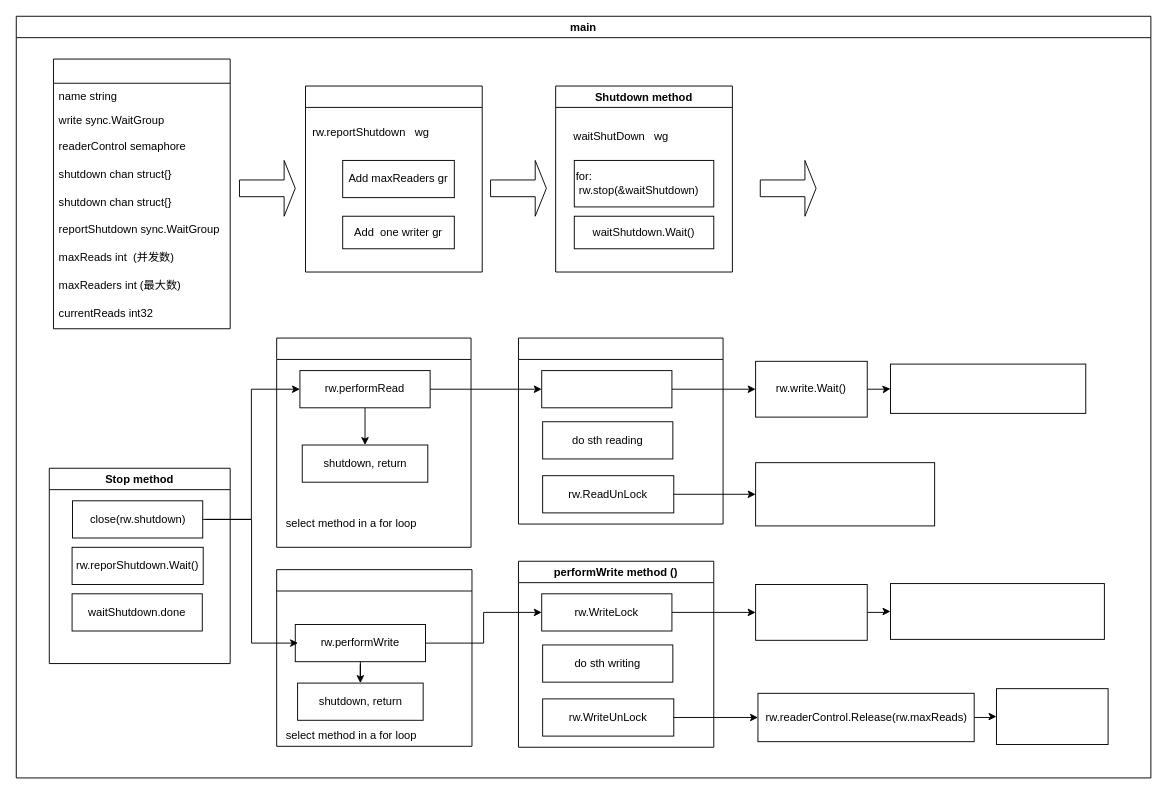
Some shapes in this 1167 by 794 pixel diagram are drawn without their labels. The box of each missing label's shape, as (x1, y1, x2, y2) in pixels:
performRead method (reader int): (518, 337, 723, 524)
reader method: (276, 337, 471, 547)
ReaderWriter struct: (53, 58, 230, 329)
rw.readerControl.Acquire(1): (890, 363, 1086, 413)
rw.readerControl.Acquire(rw.maxReads): (890, 583, 1104, 639)
rw.readerControl.Release(1): (755, 462, 935, 526)
rw.ReadLock: (541, 370, 672, 408)
rw.write.Add(1): (755, 584, 867, 640)
rw.write.Done(): (996, 688, 1108, 744)
Start method: (305, 85, 482, 272)
writer method: (276, 569, 472, 746)
